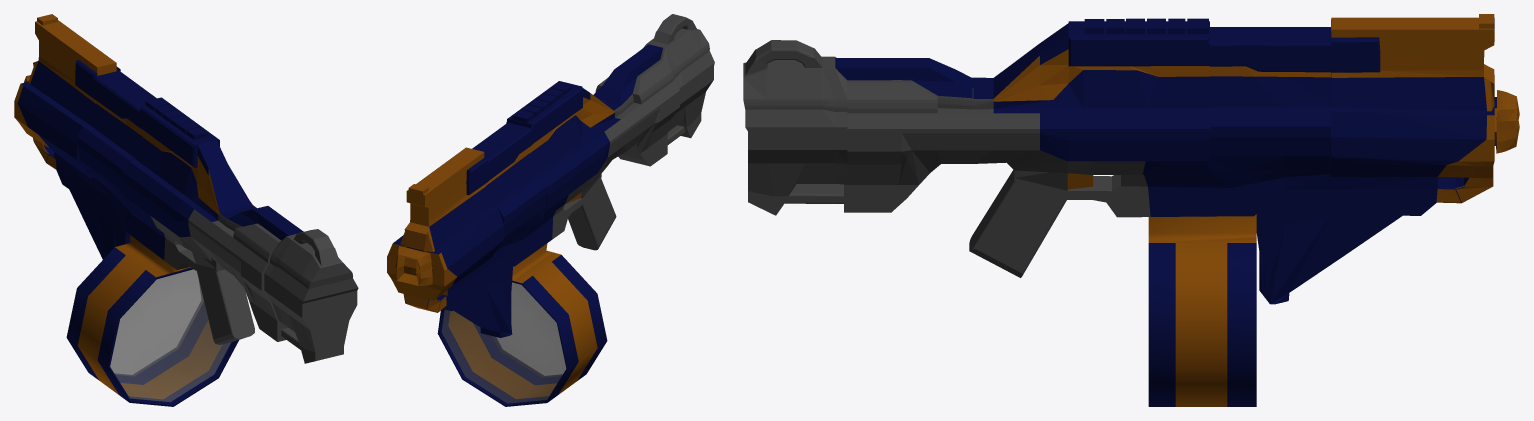
Rendered from NerfBlaster1.0.fbx.
3 views of the same model, side by side, from view 1: azimuth 30°, elevation 25°; view 2: azimuth 150°, elevation 25°; view 3: azimuth 270°, elevation 25° (orthographic). The views are drawn at different scales.
Parts seen in each view (by area): view 1: GunBase, BulletChamber; view 2: GunBase, BulletChamber; view 3: GunBase, BulletChamber.
Part boxes in pixels (x1,y1,x2,y2): GunBase: (14, 14, 358, 363); BulletChamber: (66, 235, 238, 406); GunBase: (387, 14, 714, 337); BulletChamber: (437, 243, 607, 406); GunBase: (743, 14, 1519, 304); BulletChamber: (1148, 214, 1256, 406).
Size of the model in its own units: 3.95 by 8.1 by 14.83.
